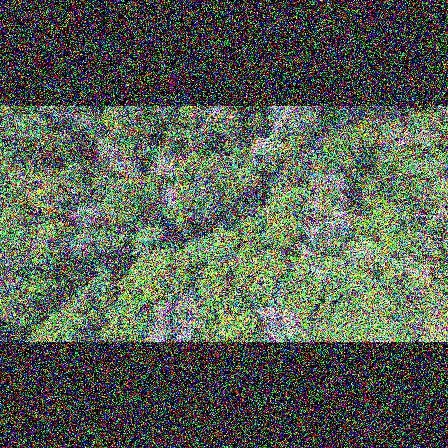Dead: (376, 130, 441, 157), (264, 106, 319, 134), (308, 171, 348, 193), (68, 229, 100, 256), (74, 201, 109, 222), (173, 318, 203, 342), (174, 288, 200, 315), (280, 309, 301, 340), (0, 273, 28, 296), (157, 152, 178, 182), (309, 264, 332, 291), (301, 217, 354, 228), (149, 318, 171, 342), (119, 160, 148, 178), (289, 241, 319, 258), (264, 319, 284, 343), (150, 301, 175, 319), (160, 187, 183, 205), (259, 306, 278, 325), (102, 140, 122, 155)
